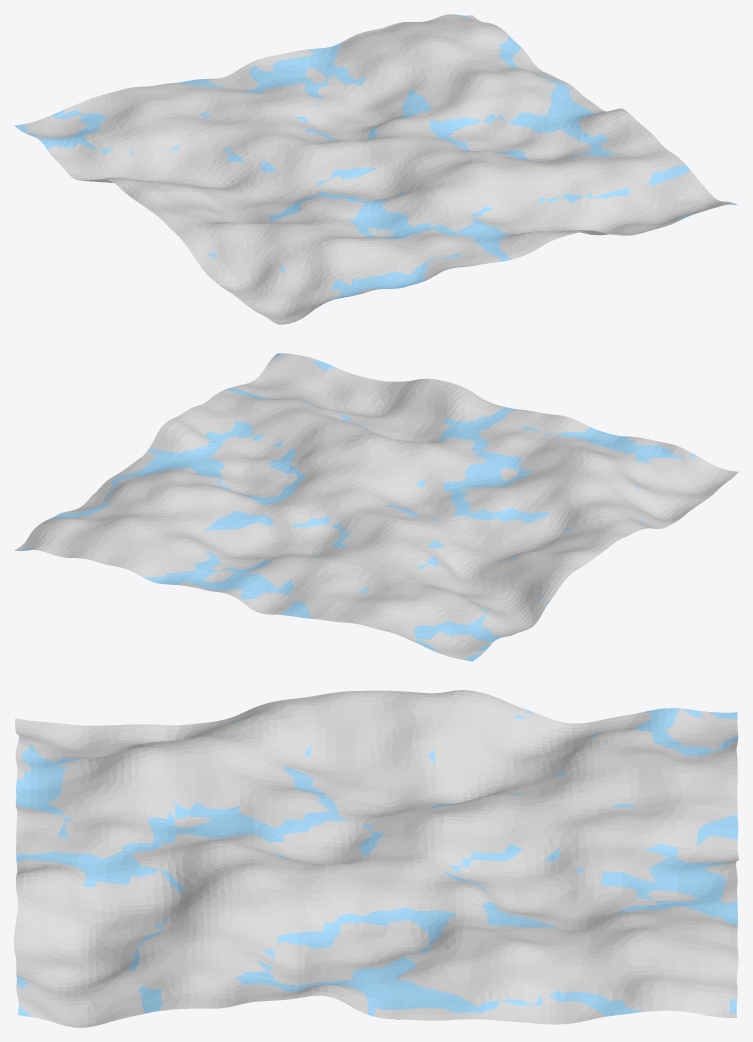
File: Demo Landscape.fbx
The picture shows the model from 3 angles, top to bottom: view 1: azimuth 30°, elevation 25°; view 2: azimuth 150°, elevation 25°; view 3: azimuth 270°, elevation 25°; orthographic projection. The views are drawn at different scales.
Parts seen in each view (by area): view 1: Demo_Landscape; view 2: Demo_Landscape; view 3: Demo_Landscape.
Boxes of the visible parts, left/top/right/bottom form: Demo_Landscape: left=14, top=14, right=737, bottom=324; Demo_Landscape: left=14, top=353, right=738, bottom=661; Demo_Landscape: left=14, top=690, right=738, bottom=1027.
Bounding box in the file's own units: 402 × 29.88 × 402.
